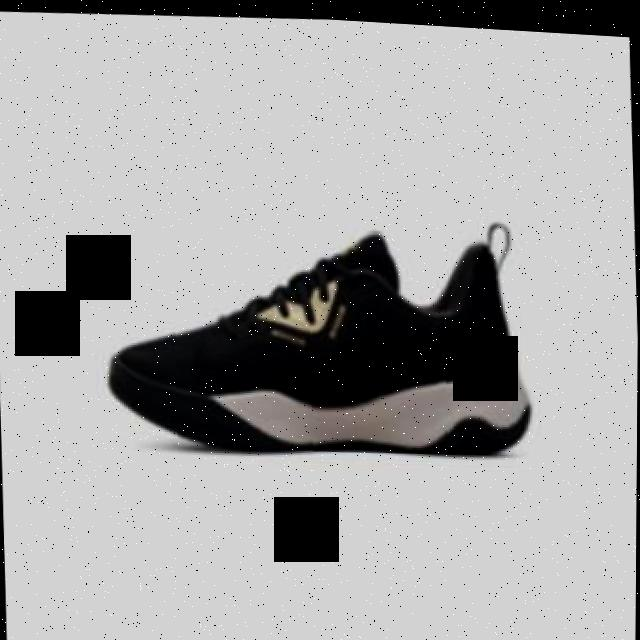shoe: (103, 207, 535, 464)
